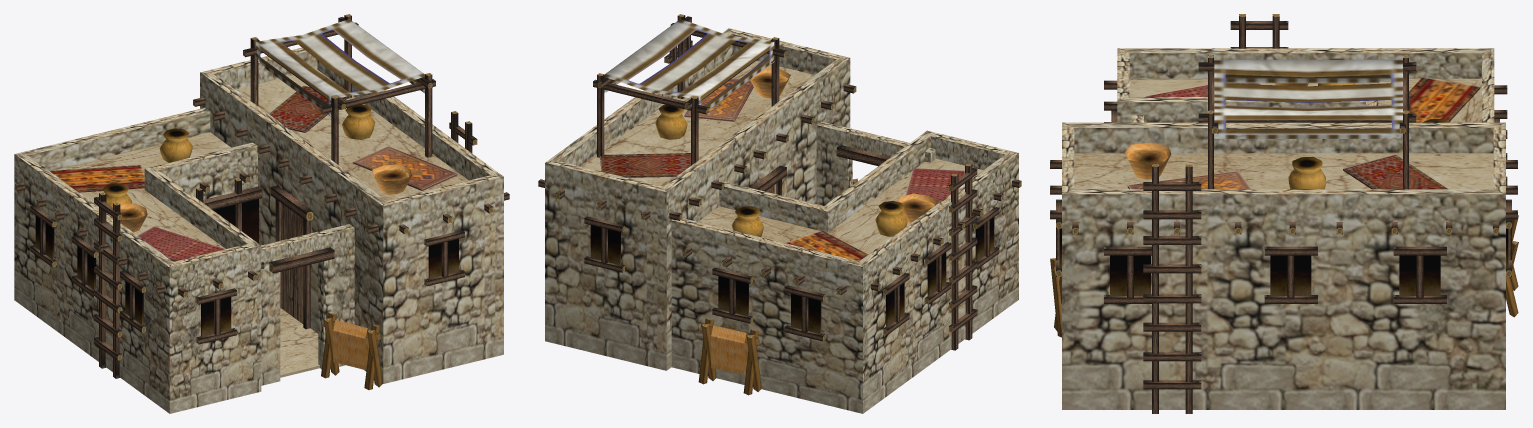
The model's file is house_4.dae.
The picture shows the model from 3 angles, left to right: view 1: azimuth 30°, elevation 25°; view 2: azimuth 150°, elevation 25°; view 3: azimuth 270°, elevation 25°; orthographic projection. The views are drawn at different scales.
Visible parts, largest first — view 1: house_4; view 2: house_4; view 3: house_4.
Part boxes in pixels (left/top/right/bottom): house_4: left=14, top=14, right=509, bottom=413; house_4: left=538, top=14, right=1021, bottom=413; house_4: left=1050, top=14, right=1518, bottom=413.
Bounding box in the file's own units: 12.54 × 12.77 × 8.74.
